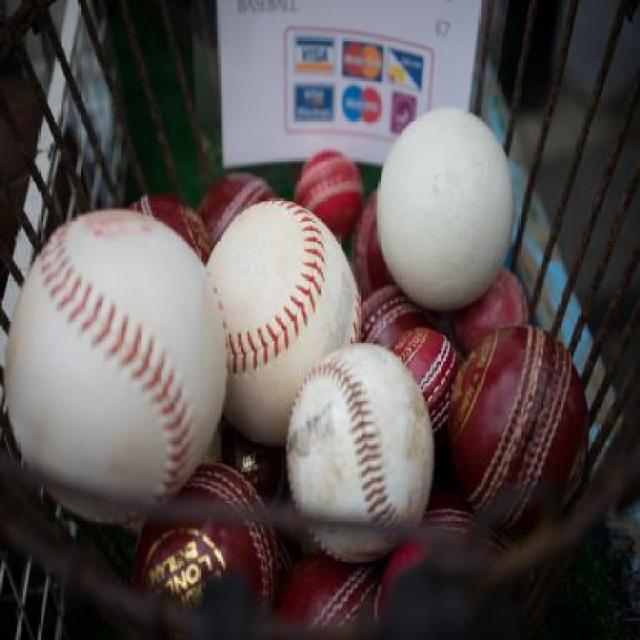-: (24, 202, 222, 471), (275, 318, 427, 529)
